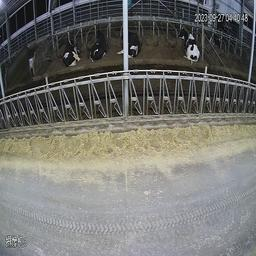cow: (176, 24, 199, 61), (91, 26, 107, 60), (63, 39, 80, 69), (127, 27, 142, 60)
